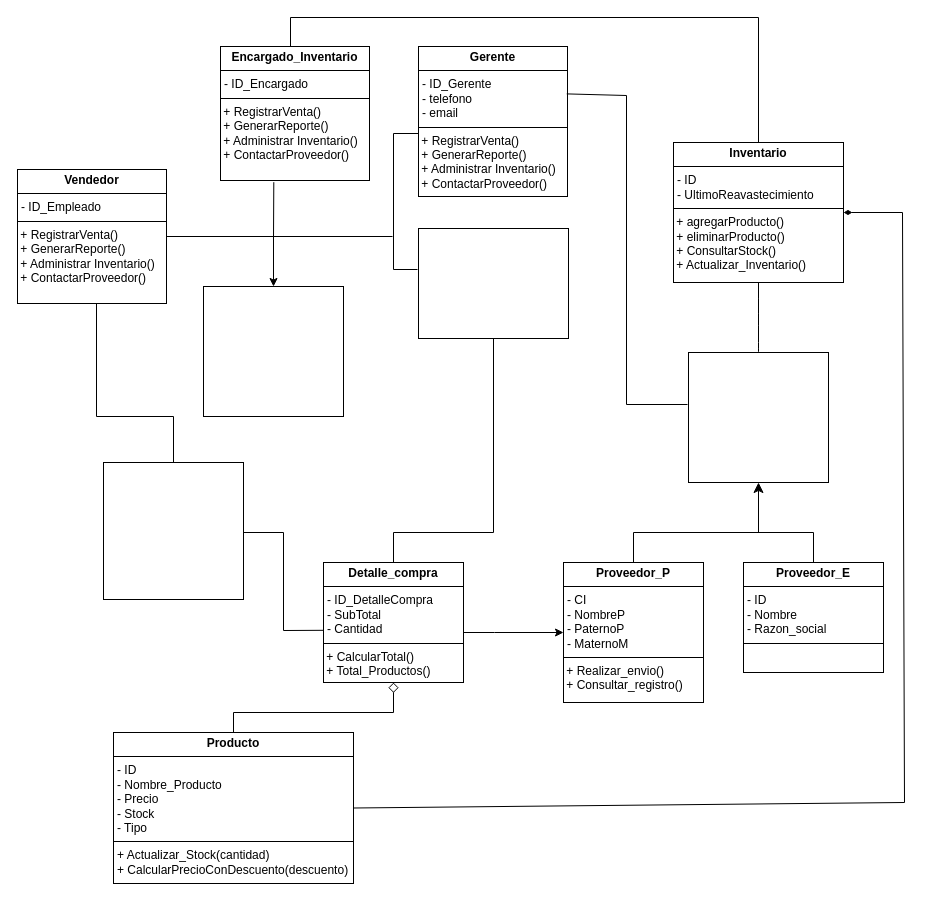
Some shapes in this 930 by 901 pixel diagram are drawn without their labels. Here are the shapes that lost their labels. From the top down, the centre of each, then its label:
At pixel 493 283: "Cliente - ID_Cliente - Telefono + ActualizarDatos() + RealizarCompra()".
At pixel 273 351: "Persona - CI - Paterno - Materno - Nombre - Fecha_nacimiento".
At pixel 758 417: "Proveedor - ID - Direccion - Telefono - email + RegistrarEnvio()".
At pixel 173 531: "Venta - ID_Venta - Fecha - Total + CalcularTotal() + GenerarFactura()".
